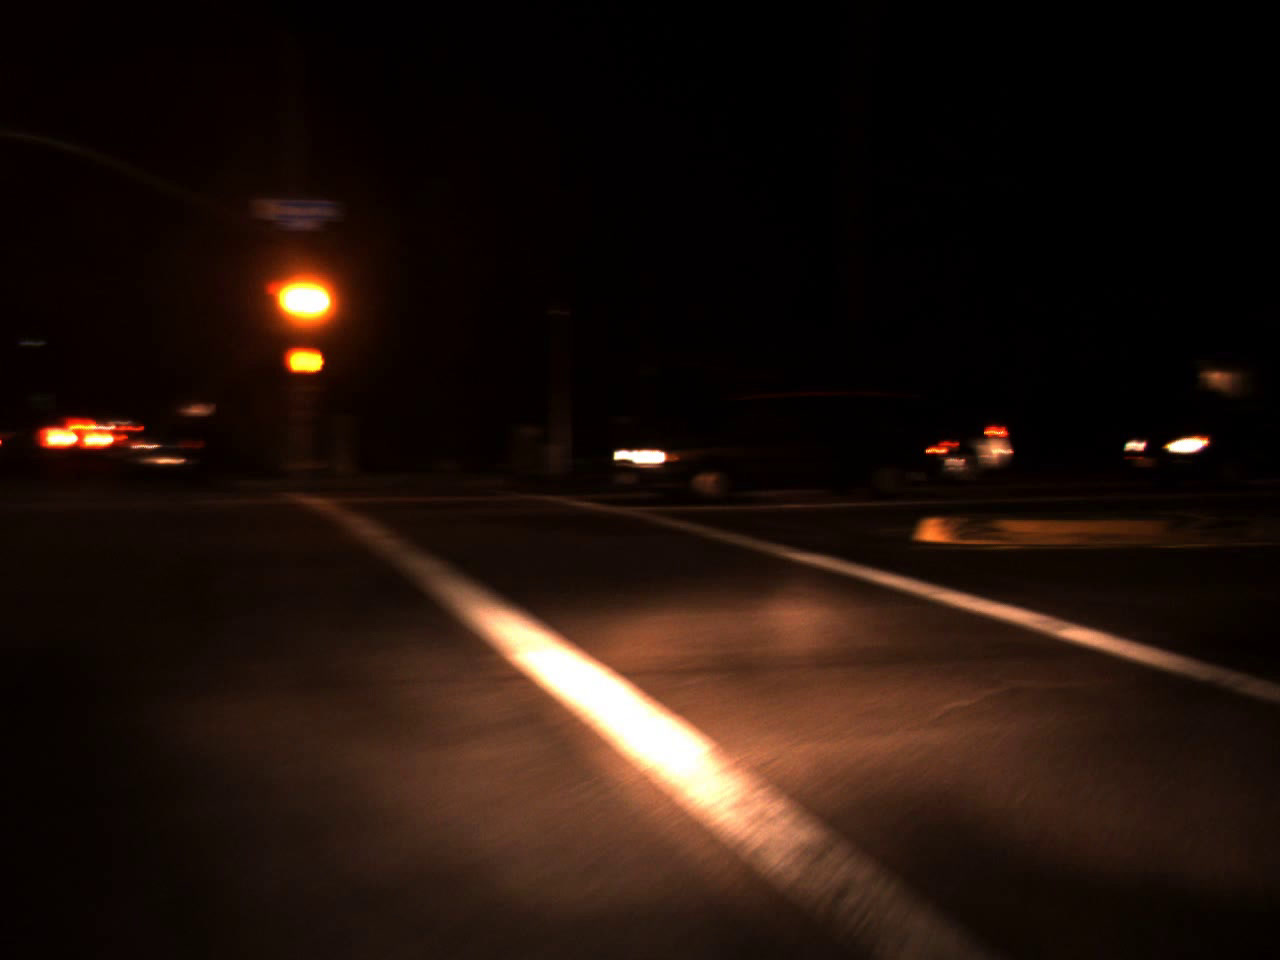warning: (283, 270, 326, 327)
